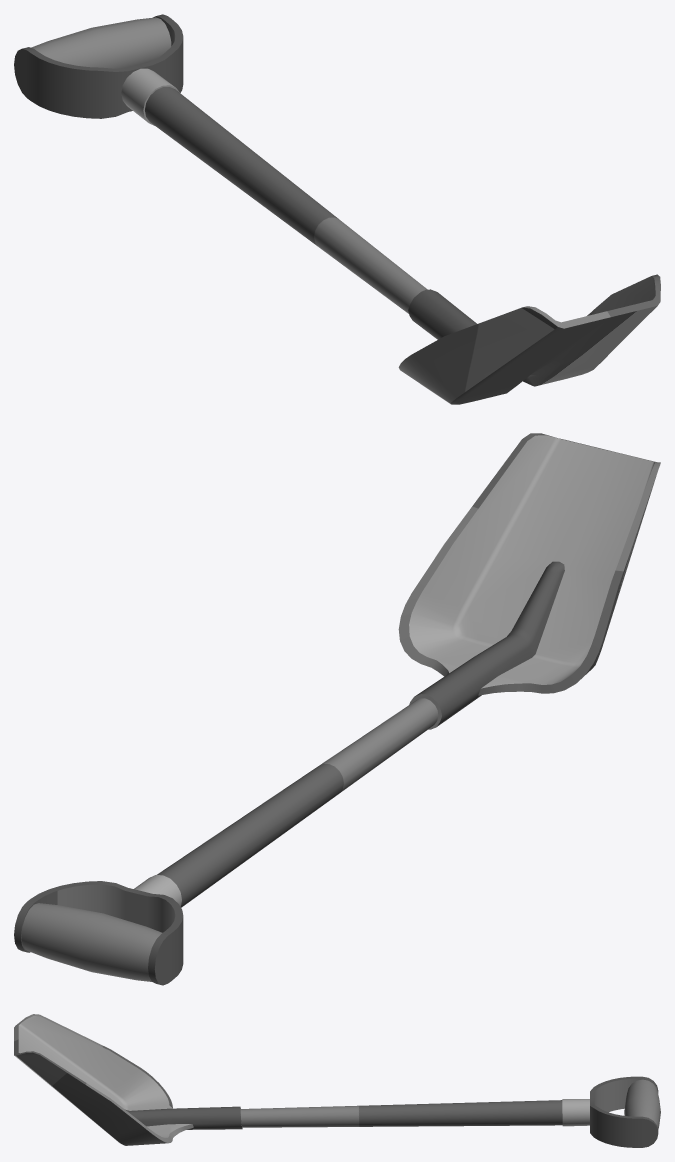
File: SM_pelle.fbx
3 views of the same model, one above another, from view 1: azimuth 30°, elevation 25°; view 2: azimuth 150°, elevation 25°; view 3: azimuth 270°, elevation 25° (orthographic). The views are drawn at different scales.
Visible parts, largest first — view 1: SM_pelle; view 2: SM_pelle; view 3: SM_pelle.
Part boxes in pixels (bbox=[...]): SM_pelle: bbox=[14, 14, 660, 404]; SM_pelle: bbox=[14, 433, 660, 985]; SM_pelle: bbox=[14, 1014, 660, 1147].
Bounding box in the file's own units: 0.2568 × 0.1985 × 1.21.
Materials: 1 (1 with a texture image).
